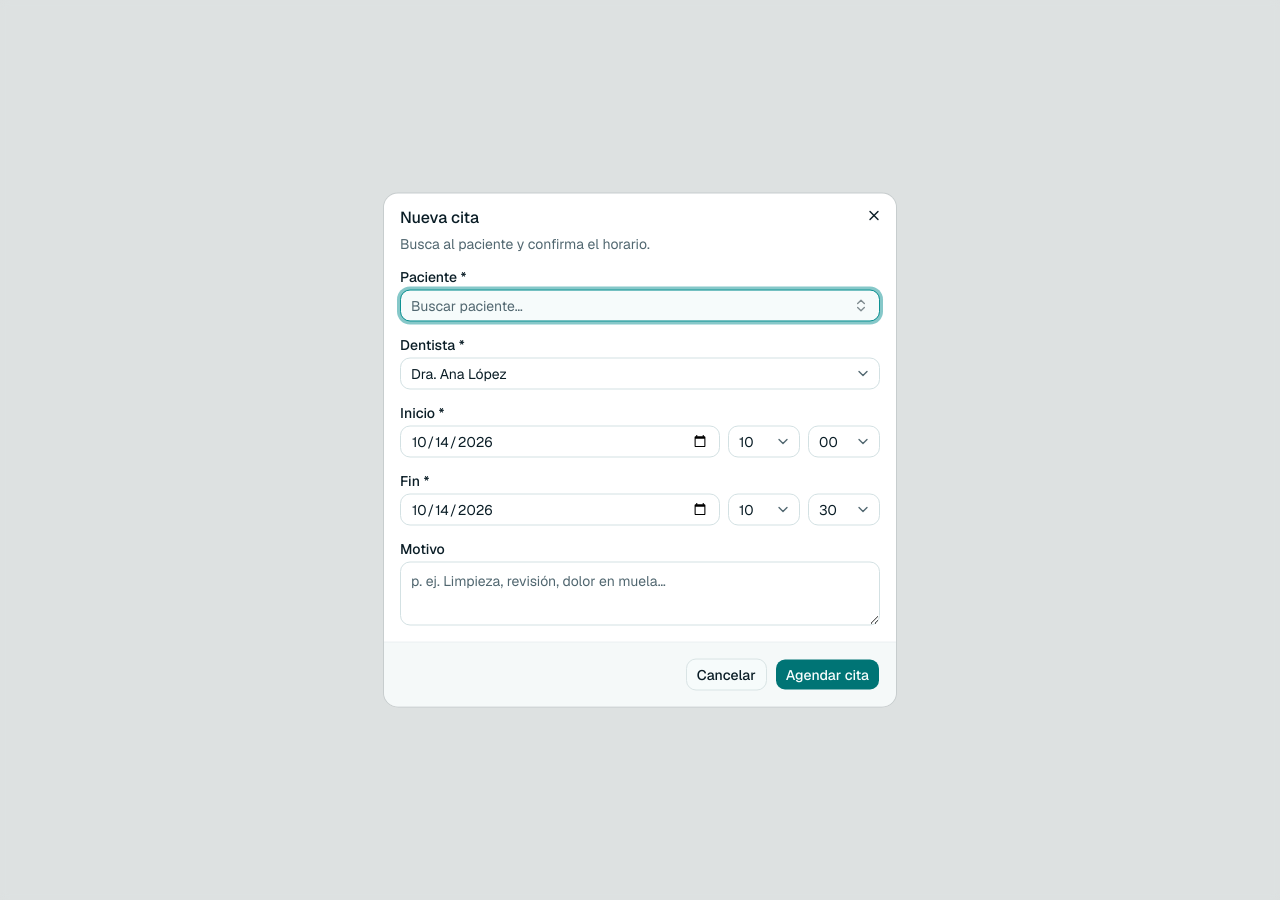
Scenario: AppointmentCreateDialog › avisa si la búsqueda de pacientes falla
Click the dropdown named "Paciente *" at [467, 306], box [400,290,880,322]
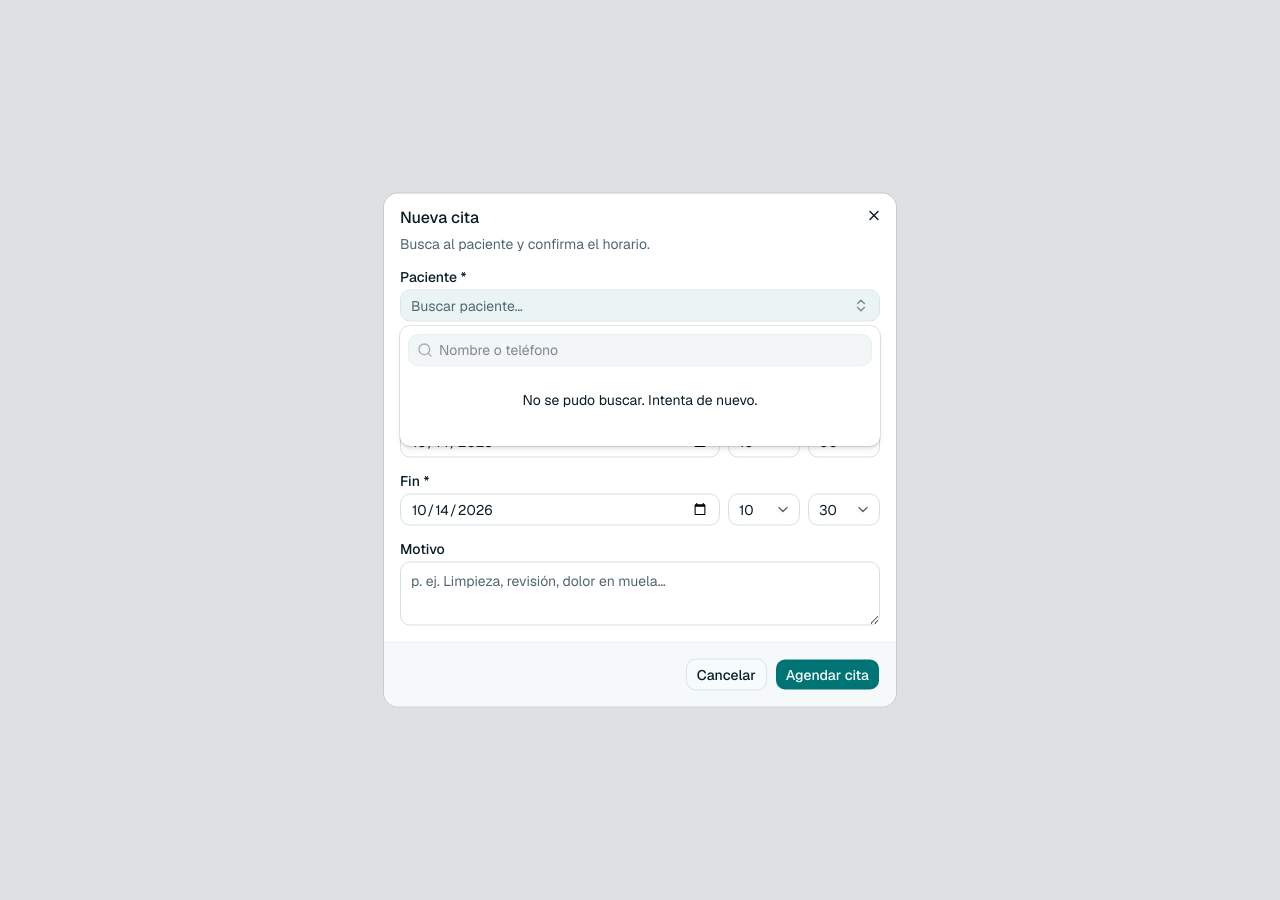
Now the text "No se pudo buscar. Intenta de nuevo." is shown, box [522,391,757,409]
